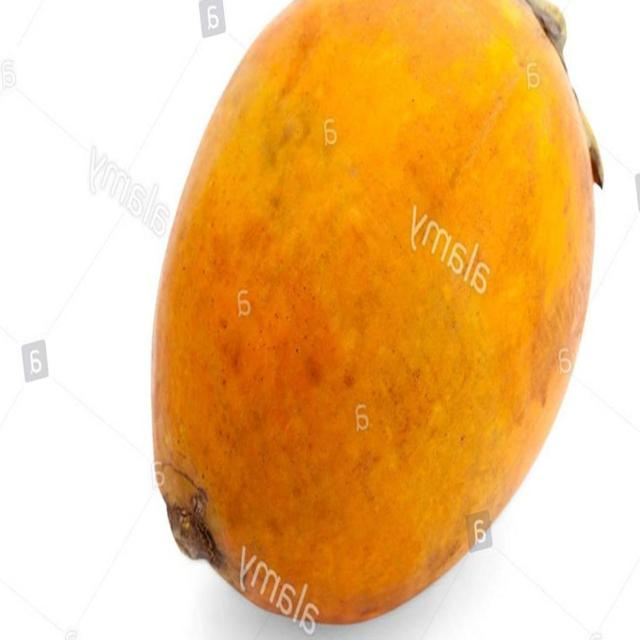good: (149, 0, 602, 627)
